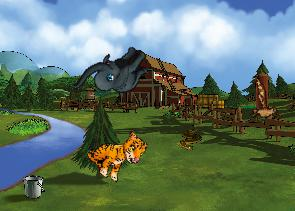eagle: (234, 75, 293, 133)
elephant: (70, 28, 155, 117)
tiger: (82, 118, 151, 188)
